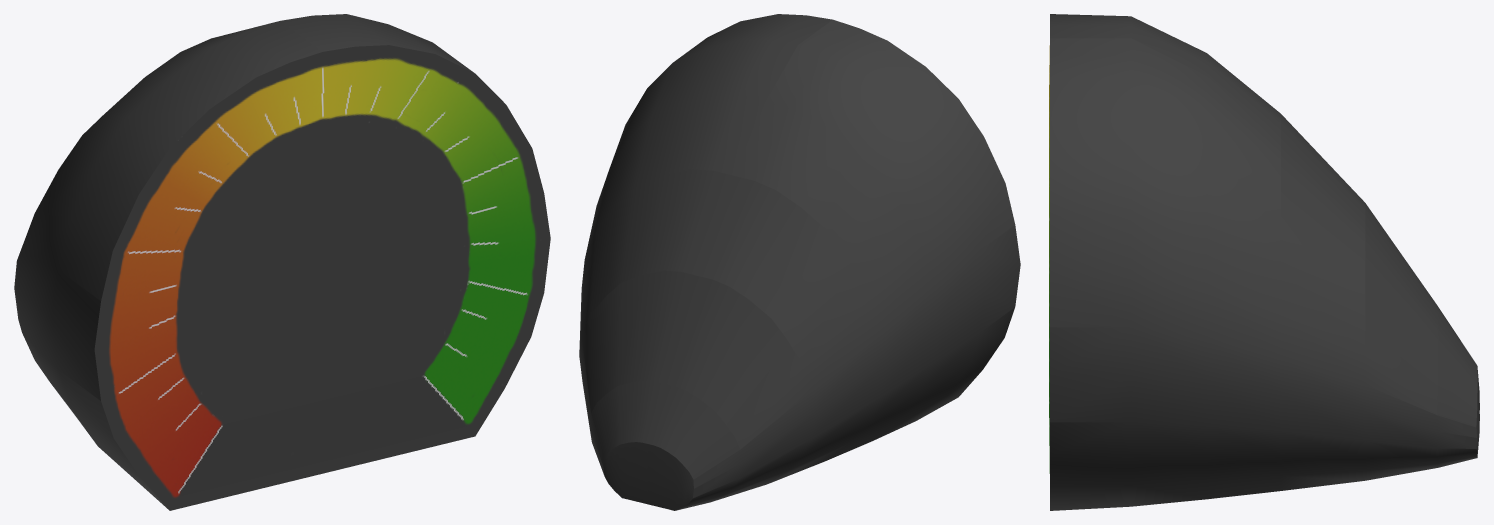
Rendered from BaseVel.obj.
3 views of the same model, side by side, from view 1: azimuth 30°, elevation 25°; view 2: azimuth 150°, elevation 25°; view 3: azimuth 270°, elevation 25° (orthographic). The views are drawn at different scales.
Parts seen in each view (by area): view 1: BaseVel1; view 2: BaseVel1; view 3: BaseVel1.
Part boxes in pixels (x1,y1,x2,y2): BaseVel1: (14,14,550,510); BaseVel1: (579,14,1020,510); BaseVel1: (1049,14,1479,510).
Size of the model in its own units: 6.75 by 6.01 by 5.79.
